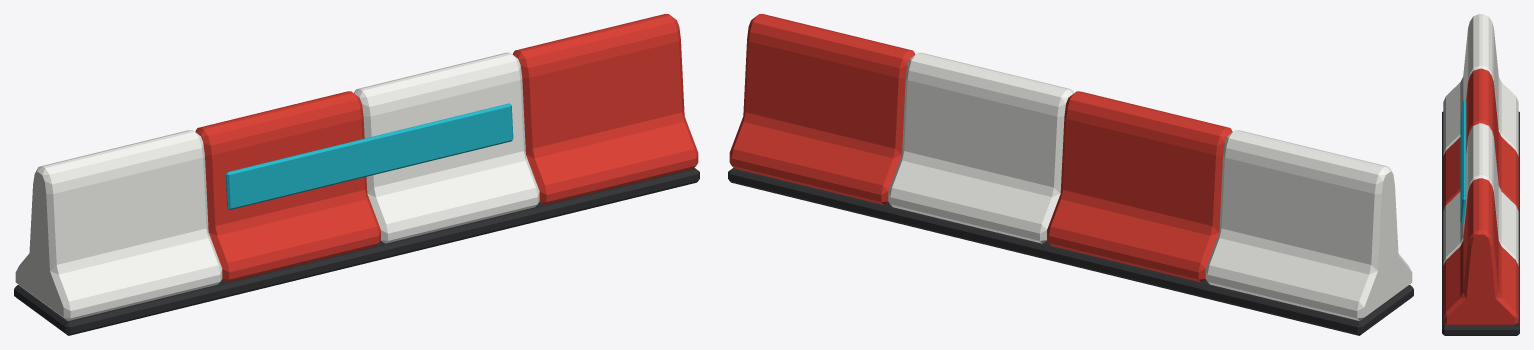
The model's file is barrier_segment.obj.
3 views of the same model, side by side, from view 1: azimuth 30°, elevation 25°; view 2: azimuth 150°, elevation 25°; view 3: azimuth 270°, elevation 25° (orthographic). The views are drawn at different scales.
Parts seen in each view (by area): view 1: barrier_segment; view 2: barrier_segment; view 3: barrier_segment.
Part boxes in pixels (box(x1,y1,x2,y2)): barrier_segment: box(14, 14, 699, 335); barrier_segment: box(728, 14, 1413, 335); barrier_segment: box(1442, 14, 1519, 335).
Size of the model in its own units: 4 by 0.9 by 0.6.
